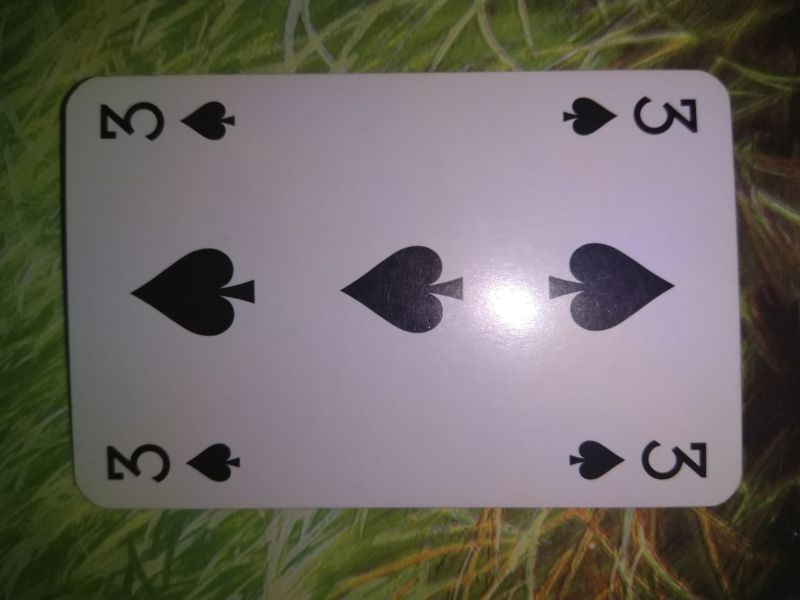3s: (562, 431, 717, 489), (555, 88, 703, 147), (93, 94, 251, 149), (100, 437, 246, 488)
